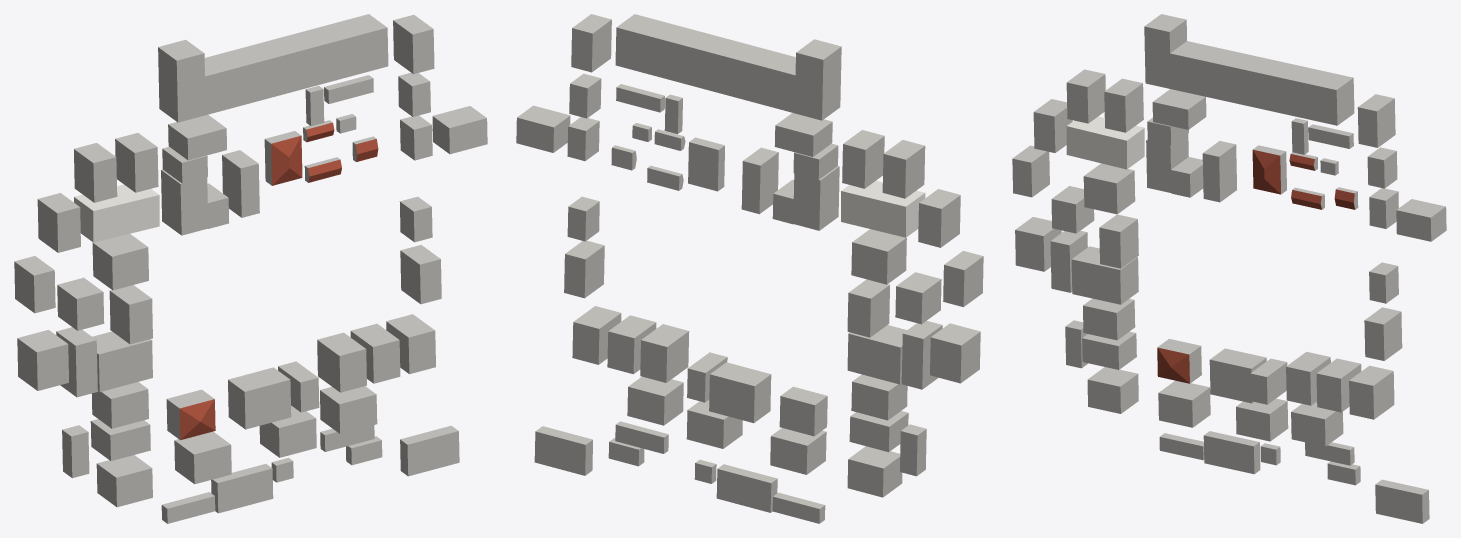
The model's file is nea_politia_thess.obj.
3 views of the same model, side by side, from view 1: azimuth 30°, elevation 25°; view 2: azimuth 150°, elevation 25°; view 3: azimuth 330°, elevation 25° (orthographic). The views are drawn at different scales.
Size of the model in its own units: 282 by 286 by 24.
